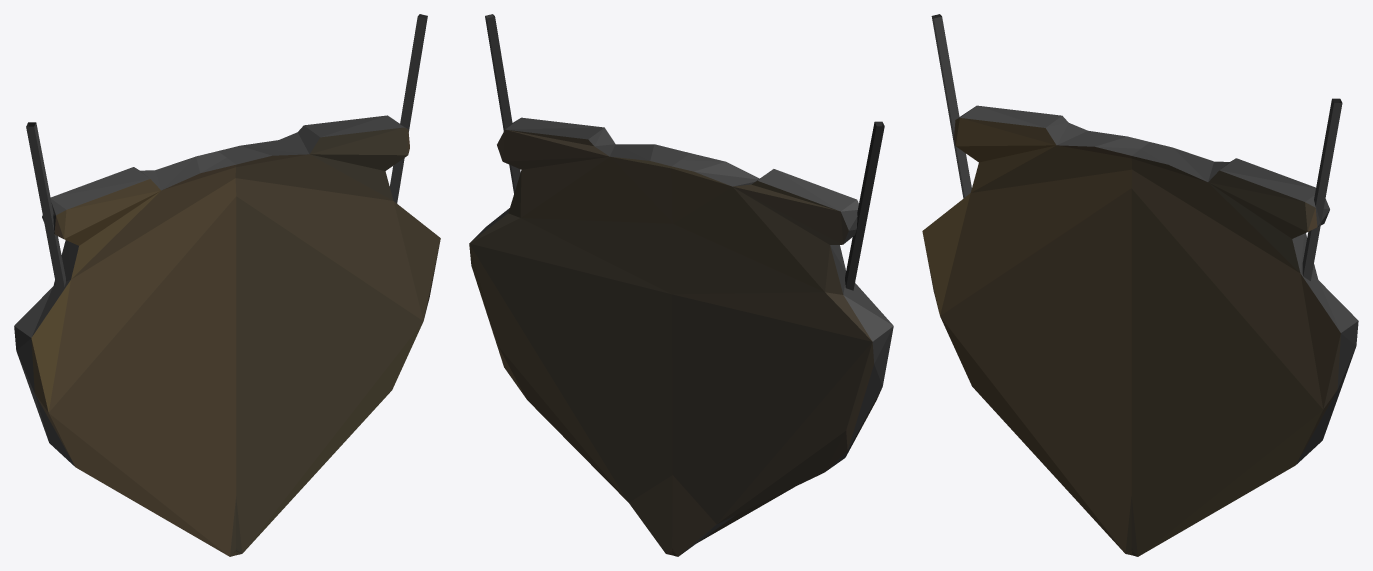
File: Sign-HangingG.fbx
The picture shows the model from 3 angles, left to right: view 1: azimuth 30°, elevation 25°; view 2: azimuth 150°, elevation 25°; view 3: azimuth 330°, elevation 25°; orthographic projection. The views are drawn at different scales.
Visible parts, largest first — view 1: Sign-HangingG; view 2: Sign-HangingG; view 3: Sign-HangingG.
Part boxes in pixels (bbox=[...]): Sign-HangingG: bbox=[14, 14, 440, 556]; Sign-HangingG: bbox=[469, 14, 893, 556]; Sign-HangingG: bbox=[922, 14, 1358, 556].
Size of the model in its own units: 118 by 134 by 9.69.
